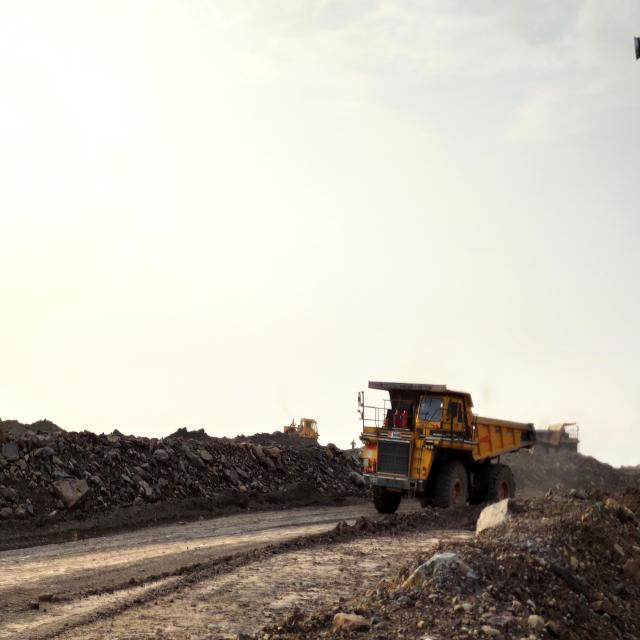dump_truck: (360, 382, 536, 513)
